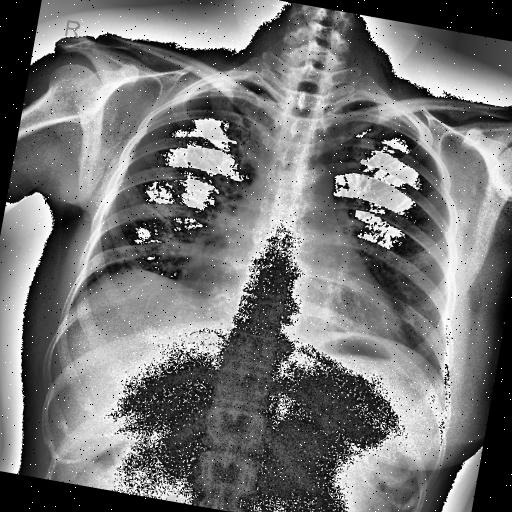3- Cardiomegaly: (188, 246, 418, 360), (196, 242, 421, 348), (195, 252, 413, 342)
